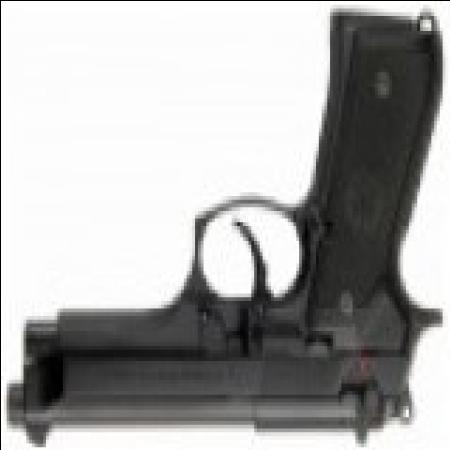Pistol: (3, 15, 439, 446)
